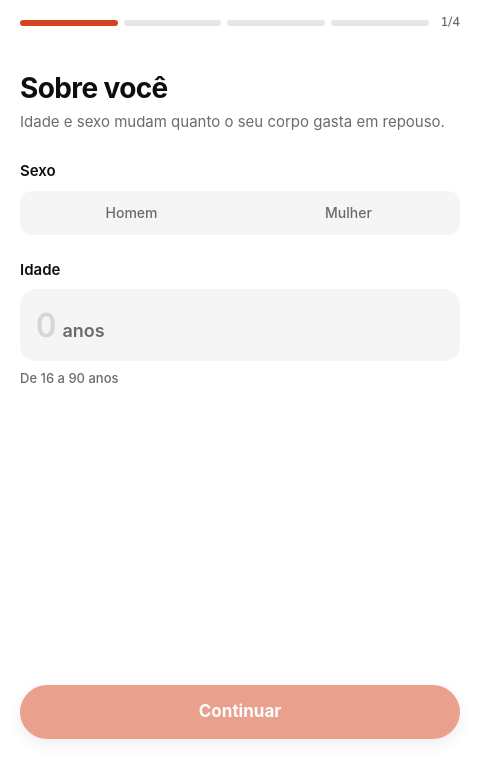
Test: Onboarding › passo 1 só libera Continuar com sexo e idade válidos (15 bloqueia, 30 libera)
Expected: the heading "Sobre você" is shown, [20,71,168,105]
Expected: the button "Continuar" is disabled, [20,685,460,739]
Click the radio button labelled "Homem": [132, 213] box [23,194,240,232]
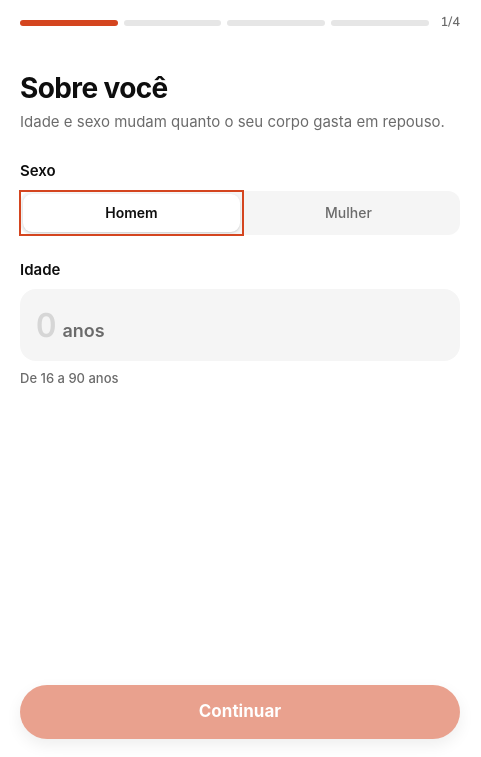
In the field labelled "Idade": [46, 326] box [36,303,56,349], type "15"
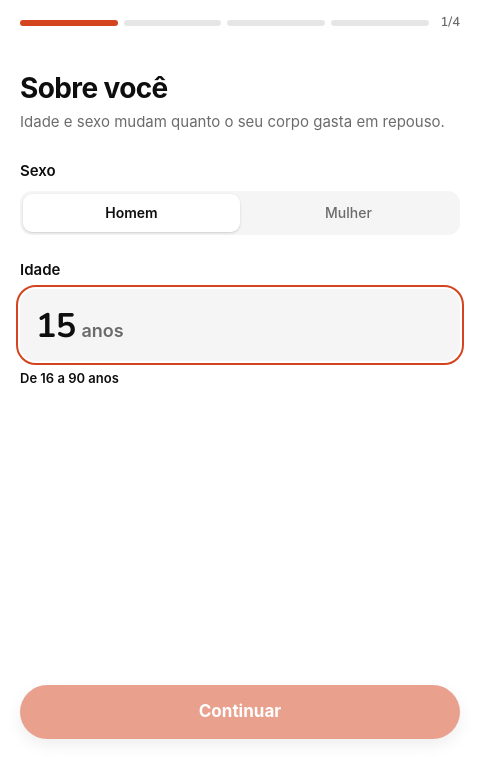
Expected: the button "Continuar" is disabled, [20,685,460,739]
Clear the field labelled "Idade": [56, 326] box [36,303,76,349]
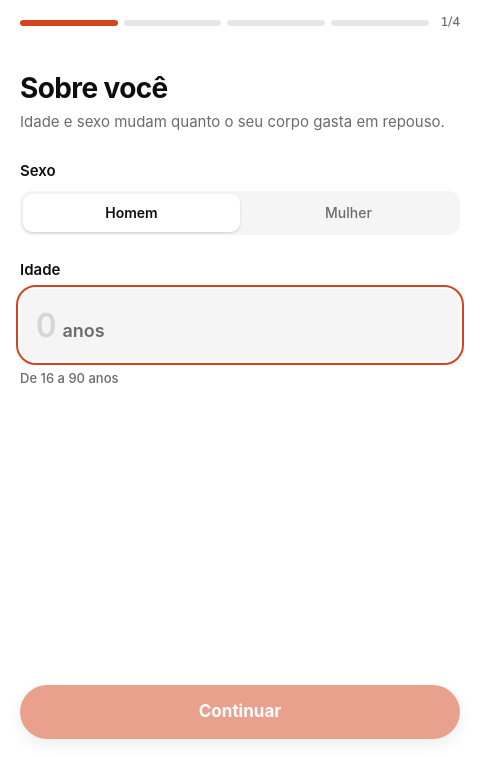
In the field labelled "Idade": [46, 326] box [36,303,56,349], type "30"
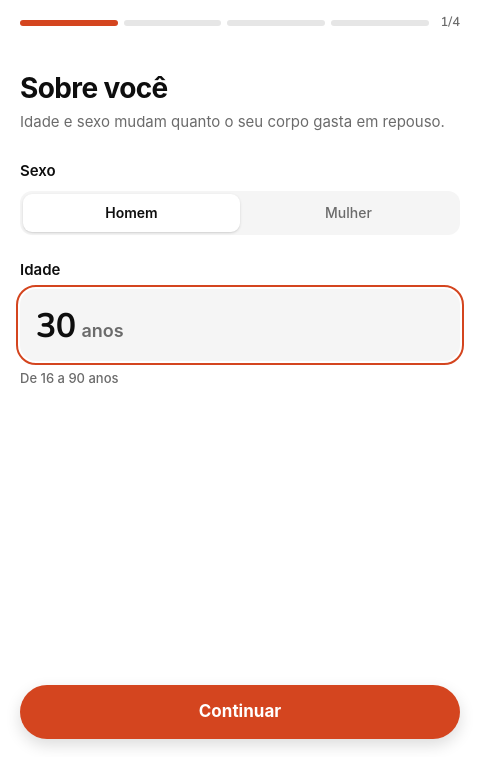
Now the button "Continuar" is enabled, box [20,685,460,739]
